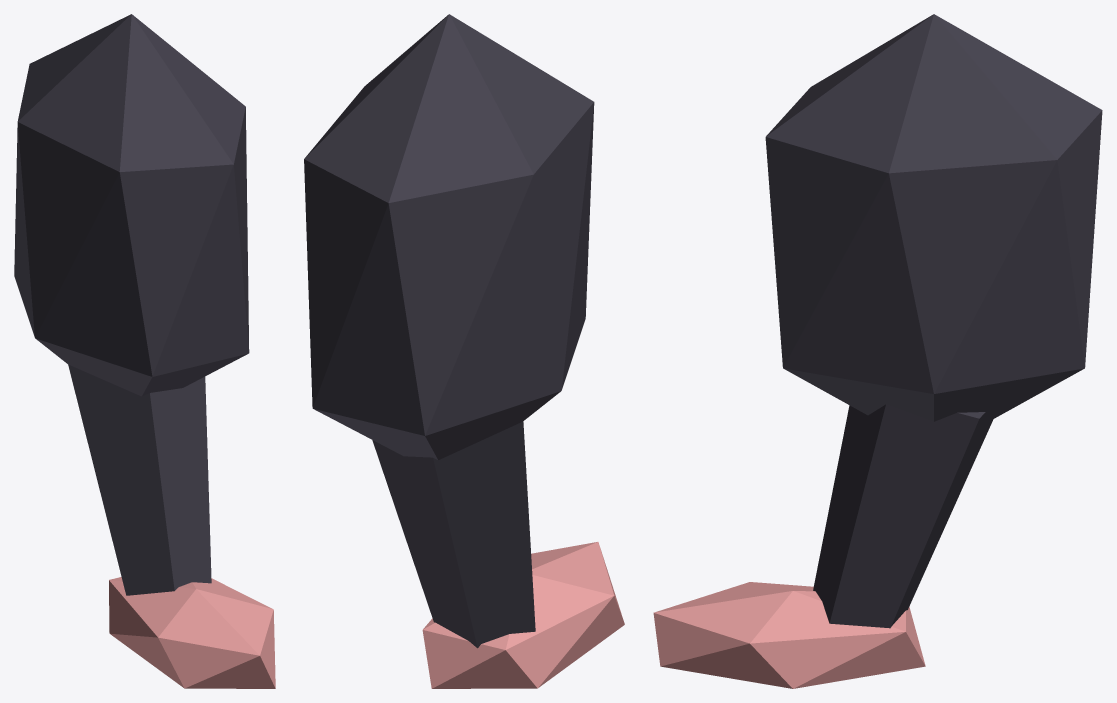
Rendered from rat_2_leg_fr.glb.
The picture shows the model from 3 angles, left to right: view 1: azimuth 30°, elevation 25°; view 2: azimuth 150°, elevation 25°; view 3: azimuth 270°, elevation 25°; orthographic projection. The views are drawn at different scales.
Parts seen in each view (by area): view 1: rat_2_leg_fr; view 2: rat_2_leg_fr; view 3: rat_2_leg_fr.
Boxes of the visible parts, x1=… form: rat_2_leg_fr: x1=14, y1=14, x2=275, y2=688; rat_2_leg_fr: x1=304, y1=14, x2=624, y2=688; rat_2_leg_fr: x1=653, y1=14, x2=1102, y2=688.
Size of the model in its own units: 0.0606 by 0.182 by 0.1115.
